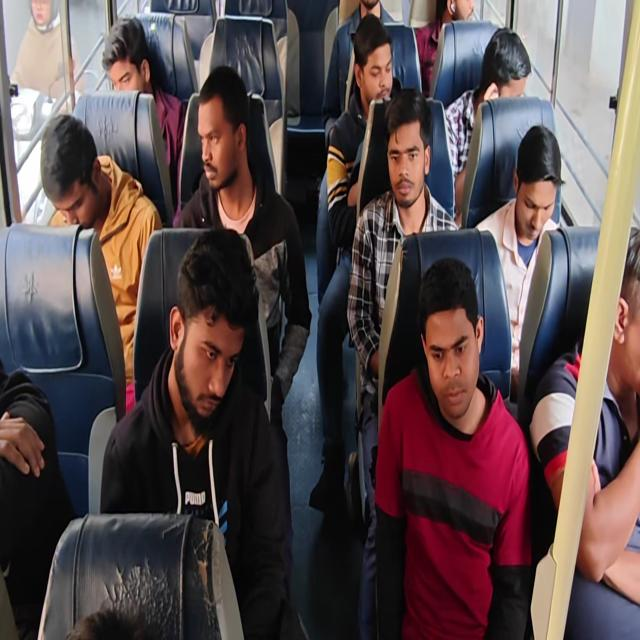person: (2, 1, 638, 638), (99, 227, 307, 638), (346, 87, 459, 637), (373, 256, 532, 638), (175, 64, 312, 432), (309, 12, 401, 512), (529, 225, 639, 607), (39, 113, 162, 415), (474, 124, 565, 400), (0, 357, 74, 638), (325, 12, 401, 250), (444, 27, 532, 224), (101, 15, 186, 214), (321, 0, 395, 149), (9, 0, 83, 110), (414, 0, 474, 96)
